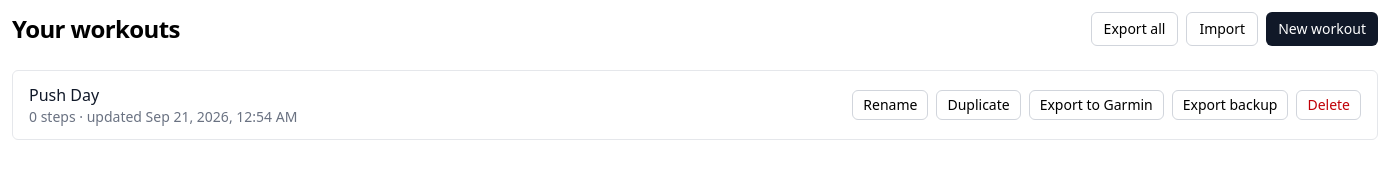
WorkoutLibrary › renames a workout from the library view
This screenshot has width=1390, height=172.
Click the button "Rename" at [890, 105], box [852,90,928,120]
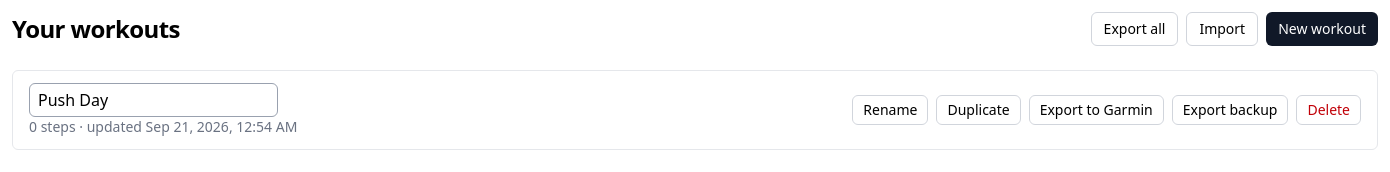
Replace the text in the field named "Rename Push Day" with "Pull Day" at [154, 100], box [29,83,278,117]
Then press Enter
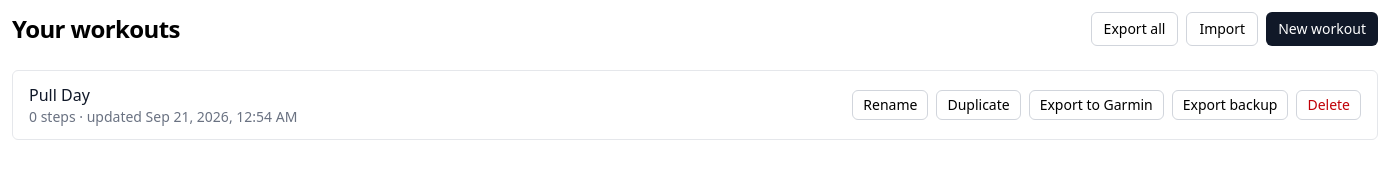
Now the button "Pull Day" is shown, box [29,83,90,107]
